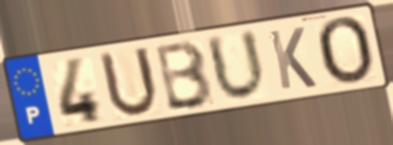4: (56, 55, 105, 126)
B: (154, 38, 216, 113)
K: (266, 25, 320, 93)
O: (314, 15, 377, 88)
U: (202, 26, 270, 104), (96, 44, 161, 121)
